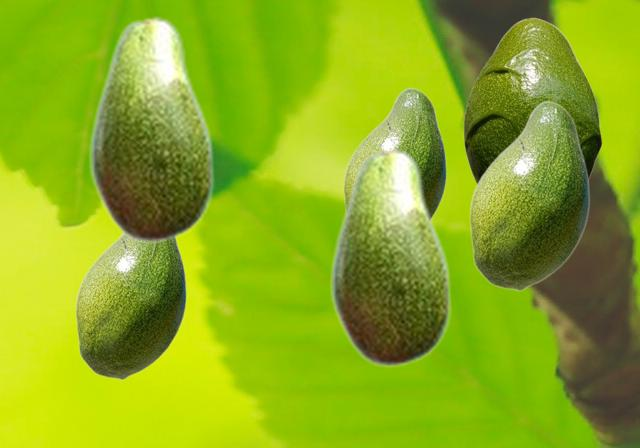avocado: (89, 14, 214, 244), (330, 146, 451, 368), (463, 17, 601, 183), (469, 100, 589, 290), (75, 235, 186, 379), (343, 87, 446, 217)
